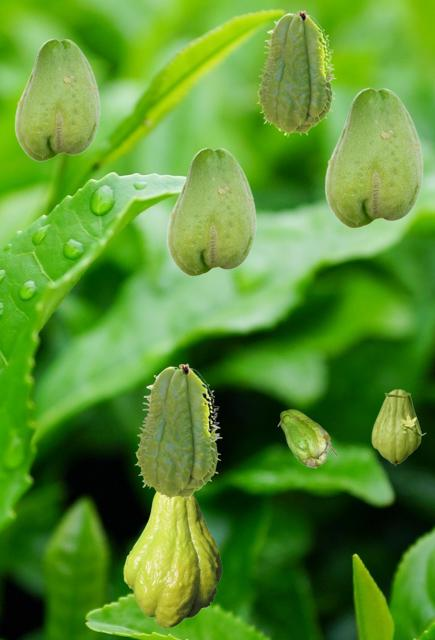sayote: (324, 87, 422, 227), (123, 492, 221, 627), (134, 363, 221, 501), (166, 147, 255, 275), (14, 38, 99, 160), (256, 10, 335, 136), (371, 389, 425, 464), (277, 409, 335, 467)
